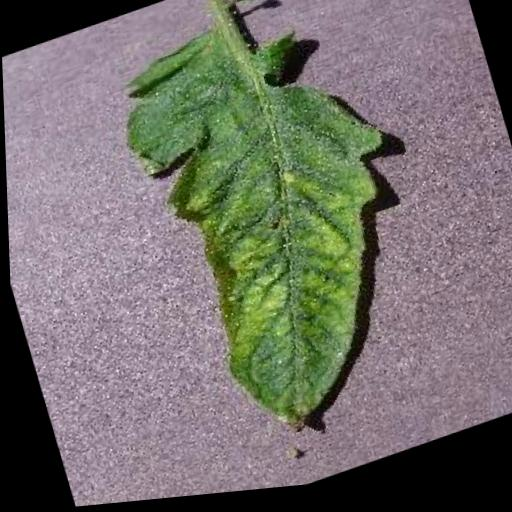Mosaic Virus: (98, 0, 450, 474)
